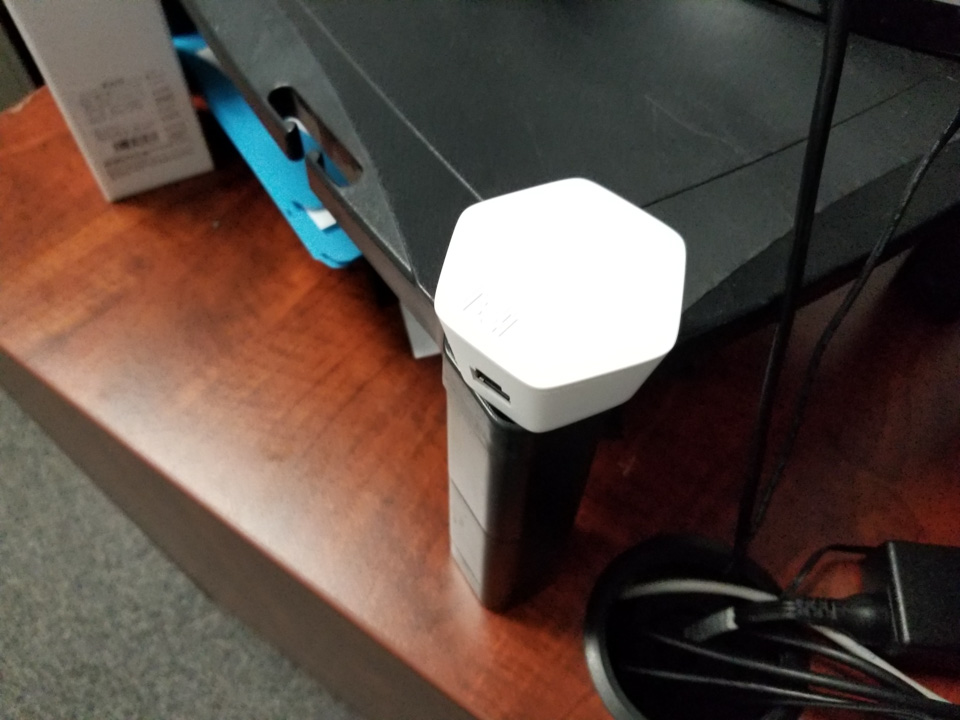pod: (428, 172, 693, 438)
